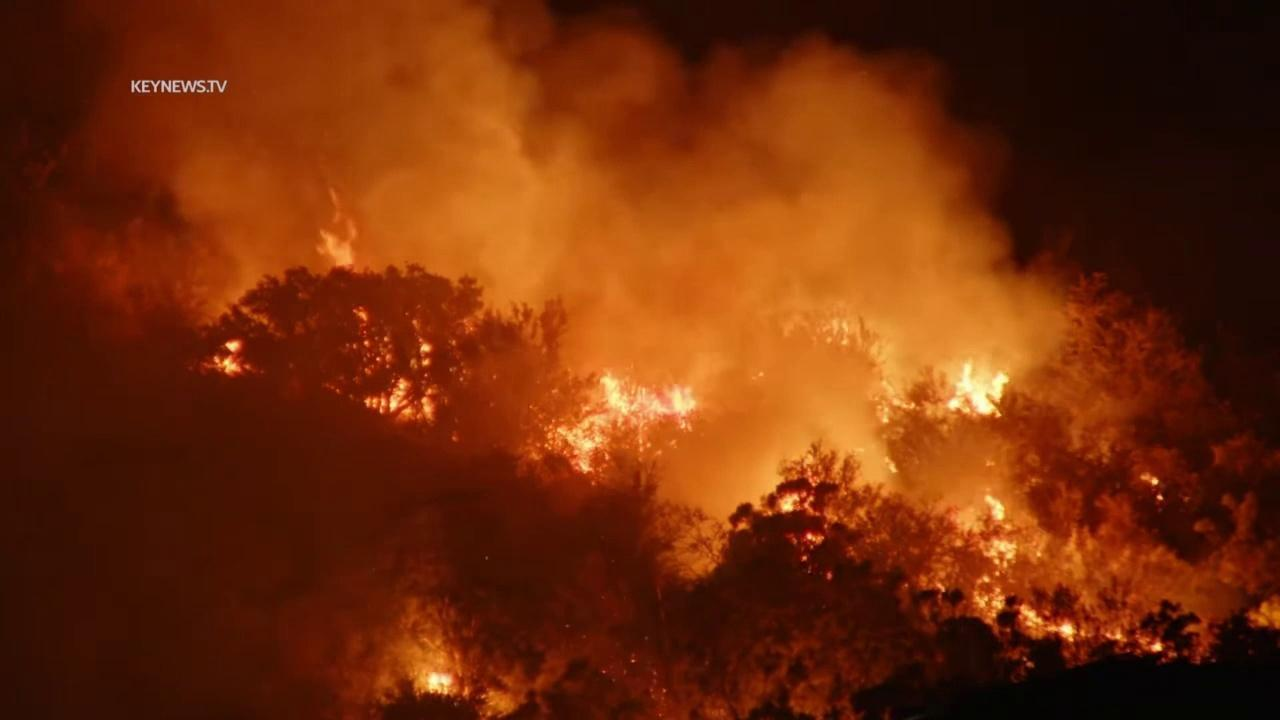fire: (529, 368, 698, 477), (320, 303, 438, 424), (970, 571, 1077, 644), (313, 185, 361, 272), (945, 358, 1011, 420), (1099, 627, 1166, 656), (974, 536, 1021, 569), (217, 339, 252, 378), (423, 671, 457, 697), (983, 493, 1010, 524), (776, 489, 803, 517), (1139, 469, 1162, 488), (1154, 493, 1167, 503)
smoke: (0, 0, 1280, 720)
